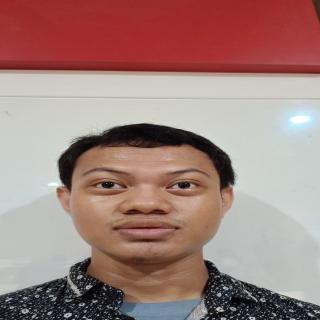Takut: (61, 141, 243, 268)
